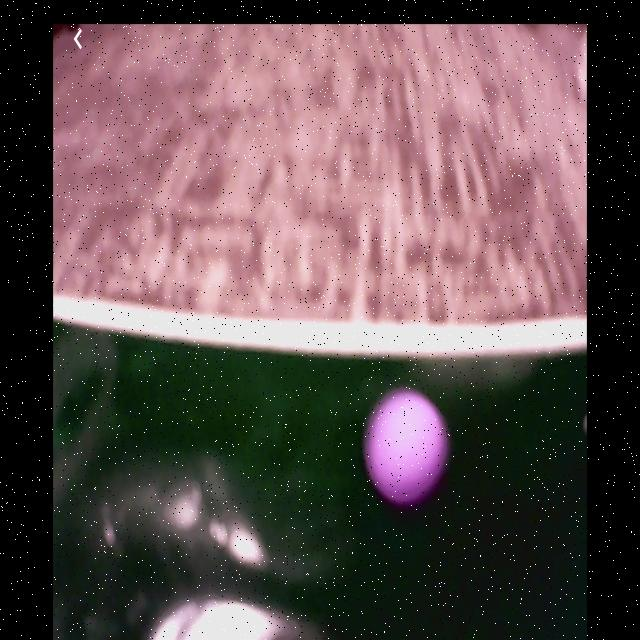ball: (362, 385, 449, 507)
